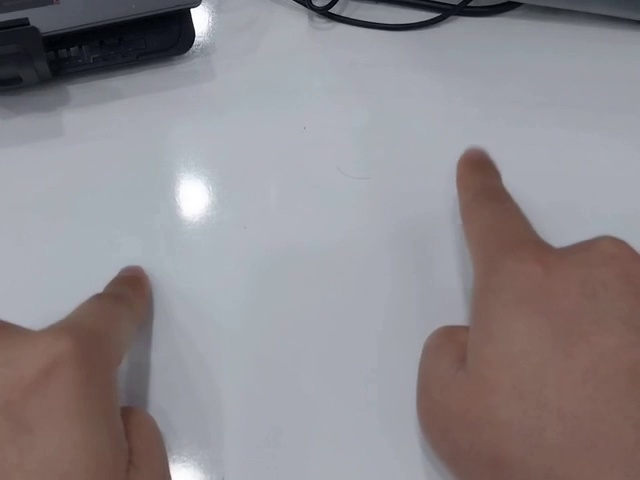fingers: (455, 144, 506, 200), (102, 264, 151, 318)
